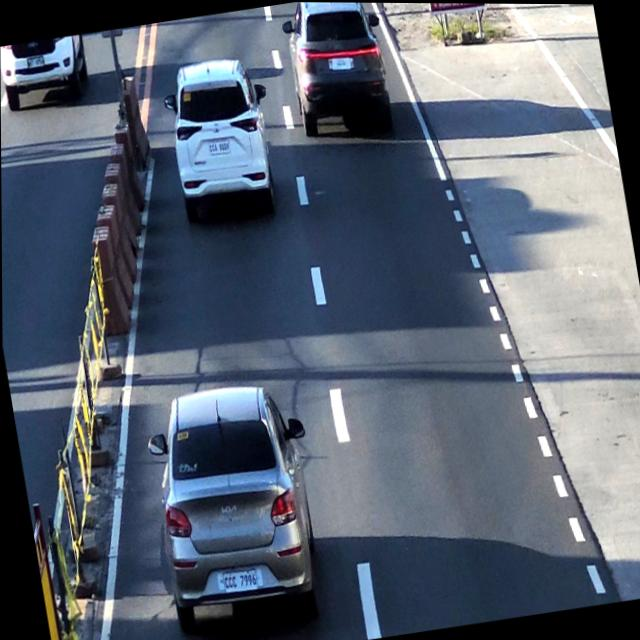Car: (141, 376, 327, 634), (160, 54, 279, 225), (281, 2, 397, 143)
License-Plate: (221, 568, 258, 594), (328, 52, 355, 76), (208, 139, 232, 155)
